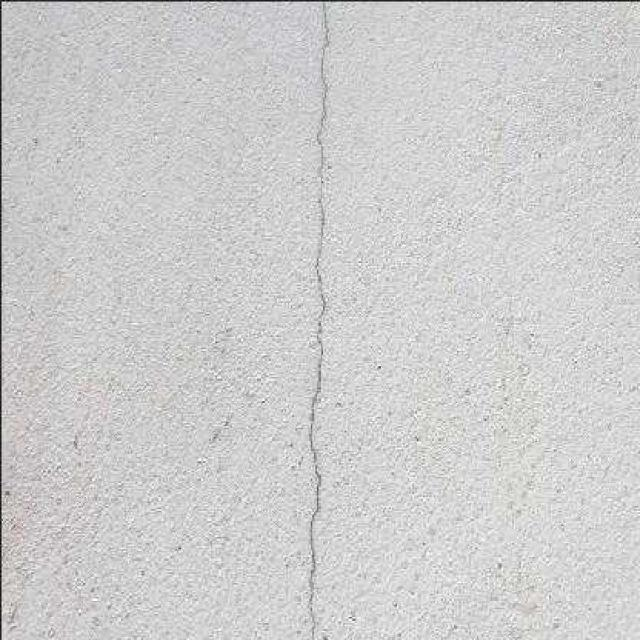D00: (307, 1, 329, 640)
